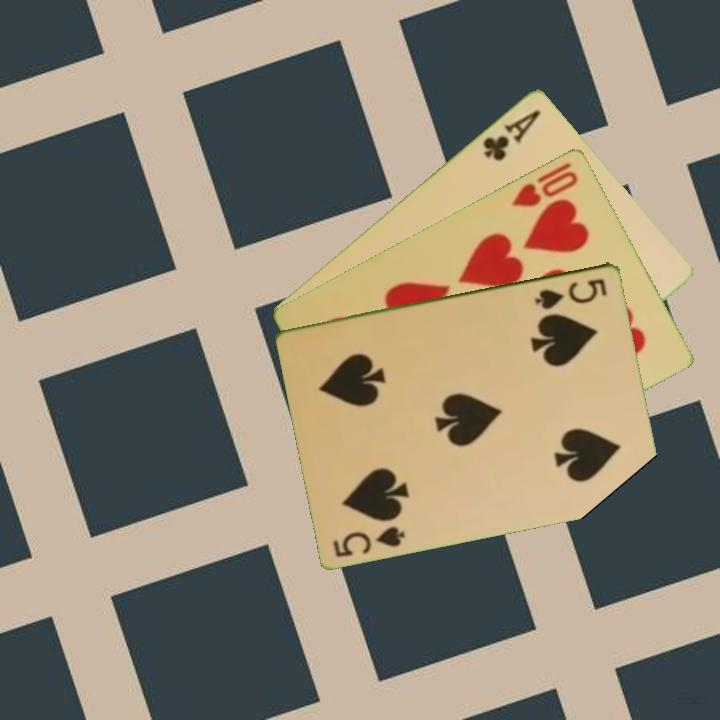10h: (508, 166, 581, 210)
5s: (531, 274, 610, 312), (330, 522, 408, 560)
Ac: (479, 105, 544, 164)
